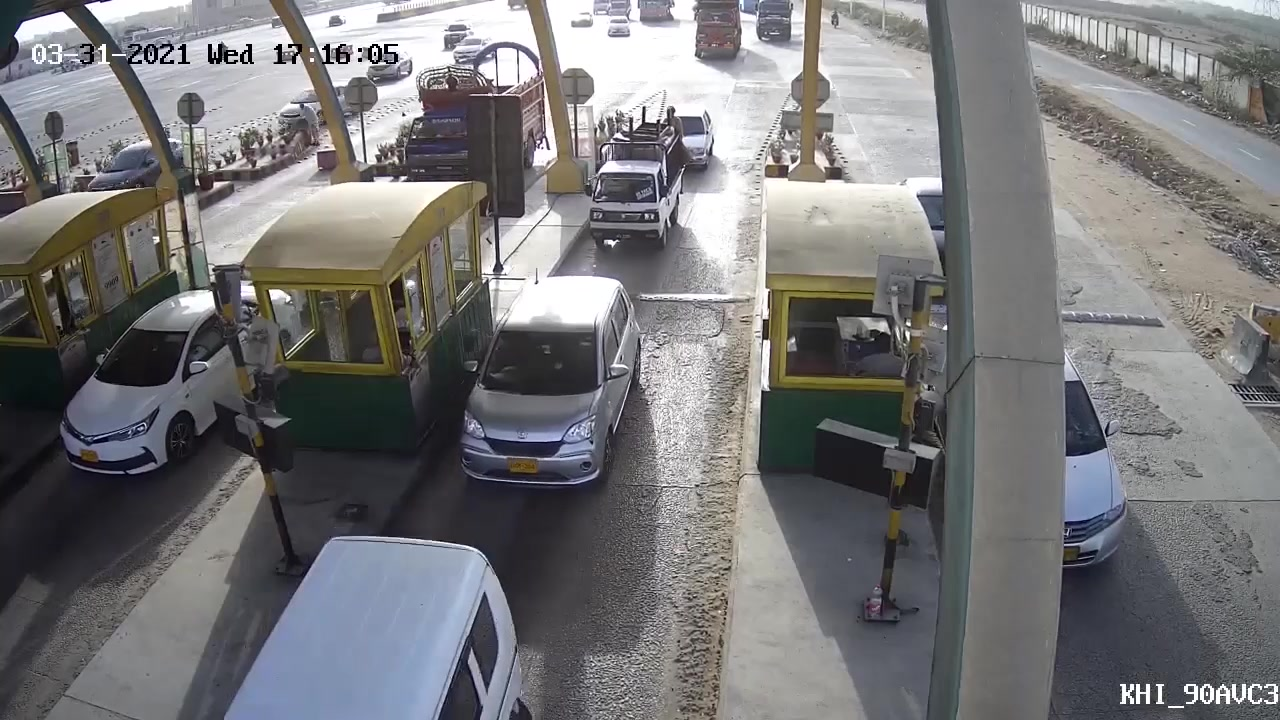F1: (455, 270, 650, 500), (576, 111, 690, 252)
